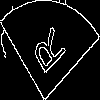R: (25, 25, 68, 83)
